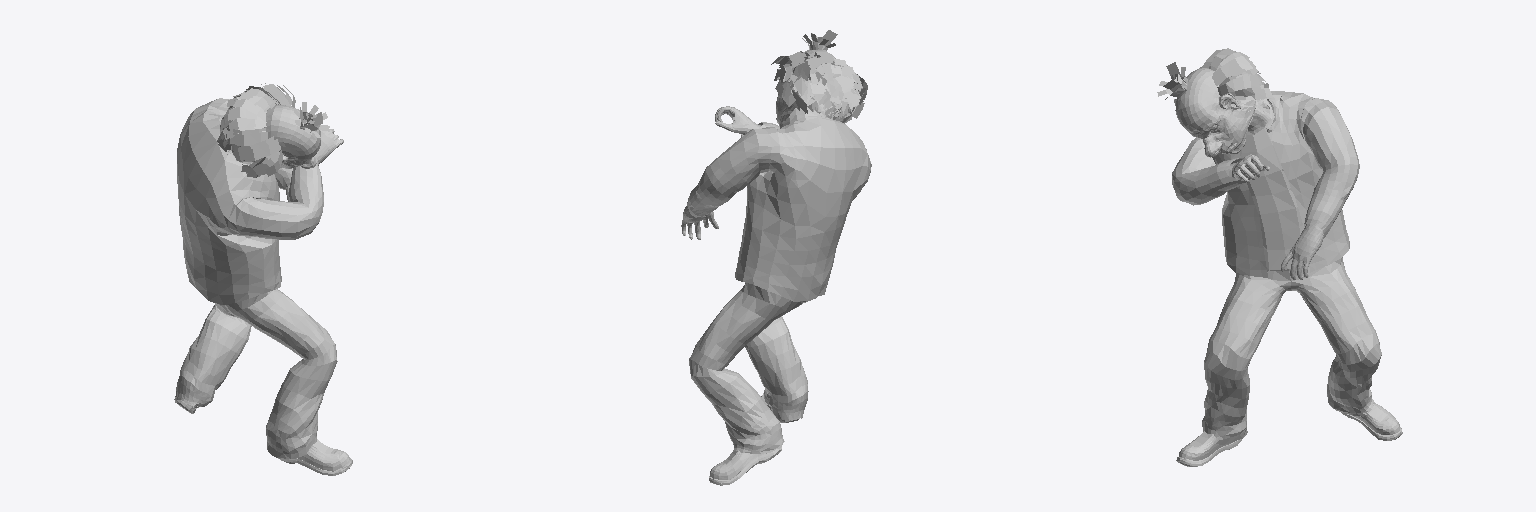
Rendered from Attack02 (25).obj.
3 renders of one model, left to right at view 1: azimuth 30°, elevation 25°; view 2: azimuth 150°, elevation 25°; view 3: azimuth 270°, elevation 25°, orthographic.
Visible parts, largest first — view 1: jacket, pants_low, hair, head, boots_01; view 2: jacket, pants_low, hair, boots_02, hand_right, hand_left; view 3: jacket, pants_low, shirt, head, hair, hand_left, boots_01, boots_02, hand_right.
Boxes of the visible parts, <box> form: jacket: <box>177,98,323,304</box>; pants_low: <box>176,289,337,458</box>; hair: <box>217,83,329,177</box>; head: <box>264,105,320,168</box>; boots_01: <box>278,439,352,475</box>; jacket: <box>687,107,871,301</box>; pants_low: <box>689,283,816,453</box>; hair: <box>771,30,867,123</box>; boots_02: <box>709,447,781,485</box>; hand_right: <box>715,106,760,134</box>; hand_left: <box>681,206,718,239</box>; jacket: <box>1172,91,1359,277</box>; pants_low: <box>1202,257,1381,444</box>; shirt: <box>1240,99,1304,270</box>; head: <box>1175,68,1255,157</box>; hair: <box>1157,48,1272,105</box>; hand_left: <box>1281,224,1323,279</box>; boots_01: <box>1176,431,1241,466</box>; boots_02: <box>1341,403,1402,440</box>; hand_right: <box>1230,154,1269,182</box>.
Size of the model in its own units: 66.67 by 166 by 96.27.